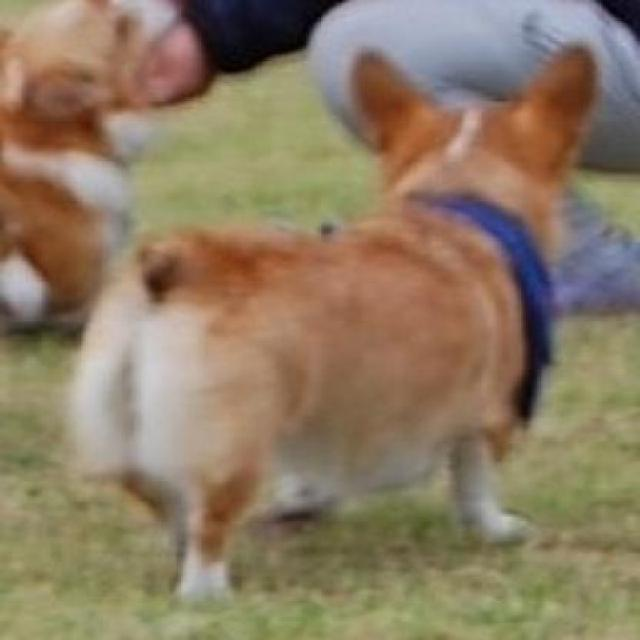Dog: (61, 38, 604, 614)
